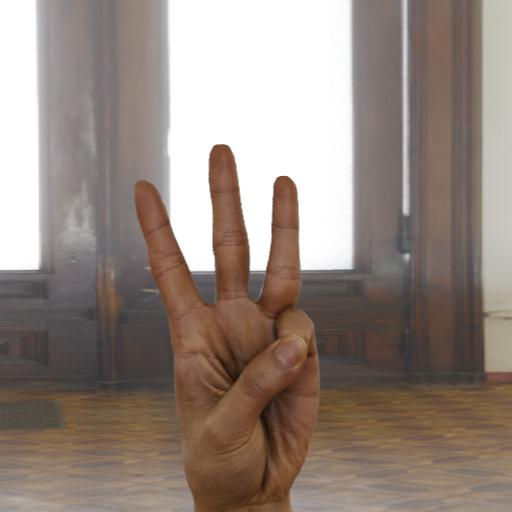W: (119, 117, 333, 506)
